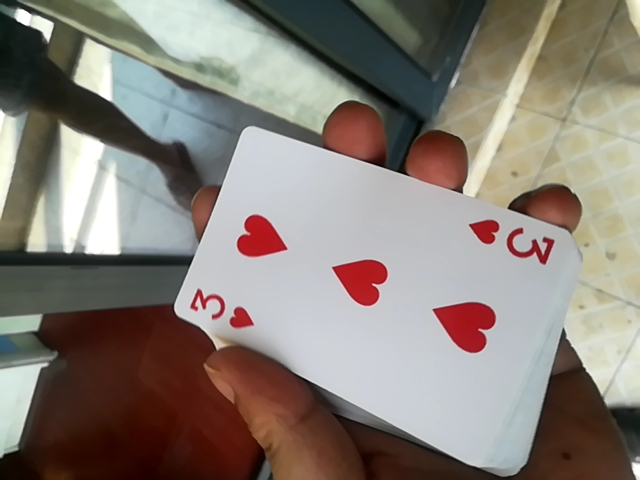hx 3: (160, 119, 576, 478)
